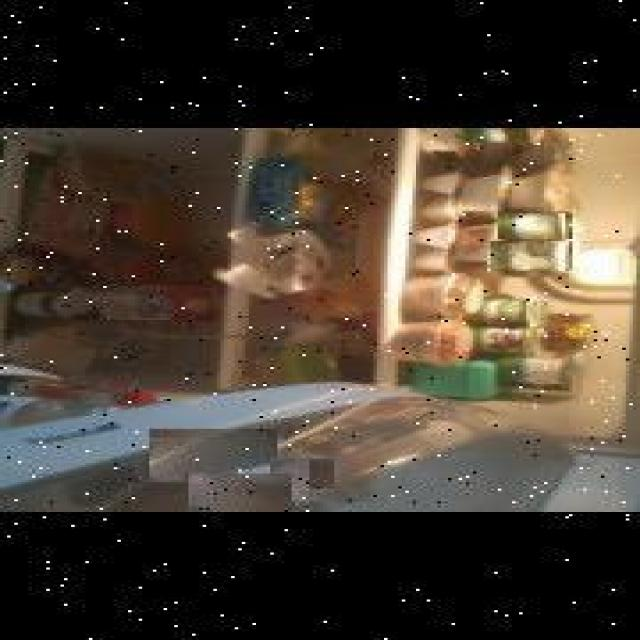egg: (151, 429, 279, 482), (185, 474, 291, 512), (272, 460, 336, 502)
milk: (71, 287, 217, 321)
yogurt: (491, 241, 569, 271), (498, 213, 569, 239)
